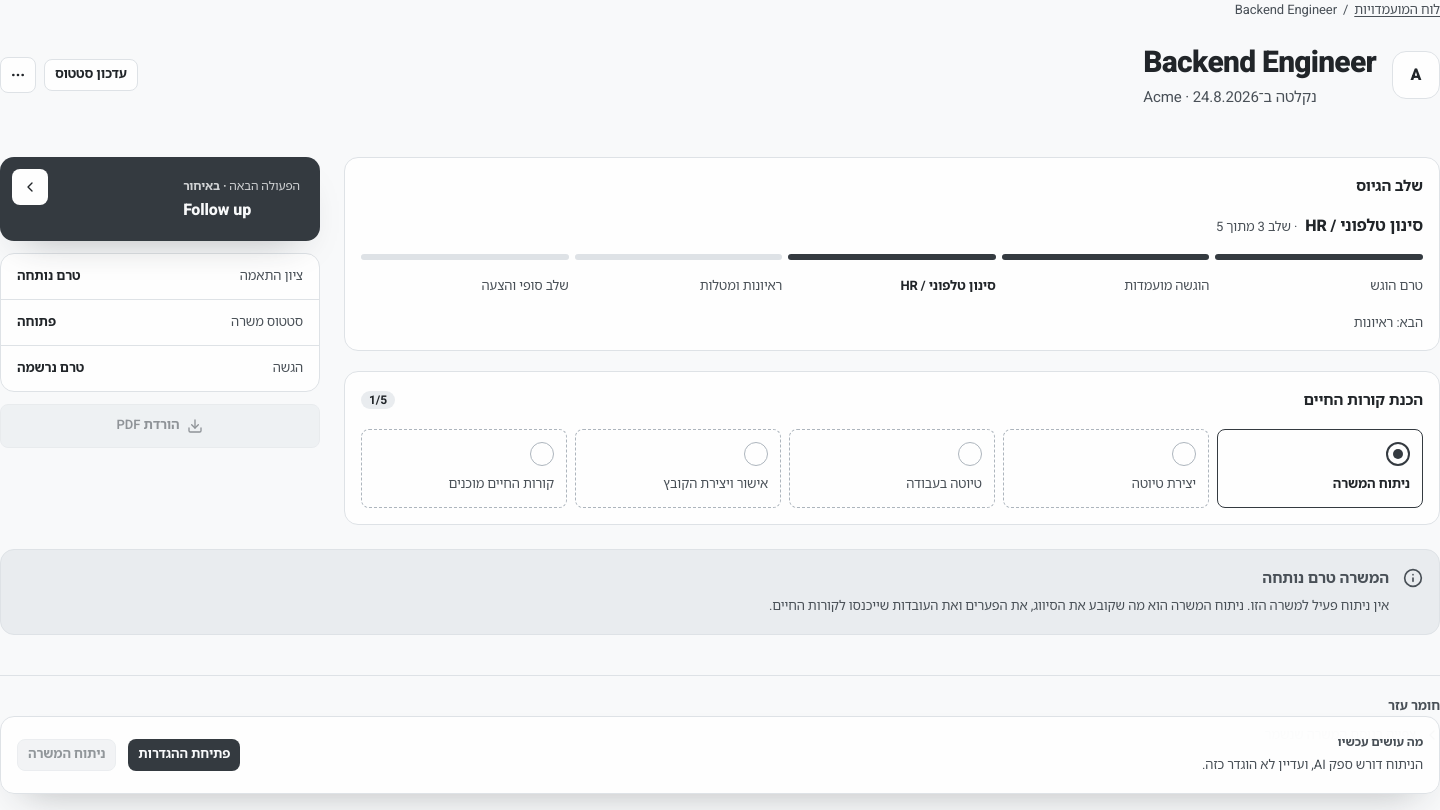
Scenario: ApplicationPage › closes the application from the masthead's record menu and offers to undo it
Click the button named "פעולות נוספות עבור Acme": (18, 75) [0,57,36,93]
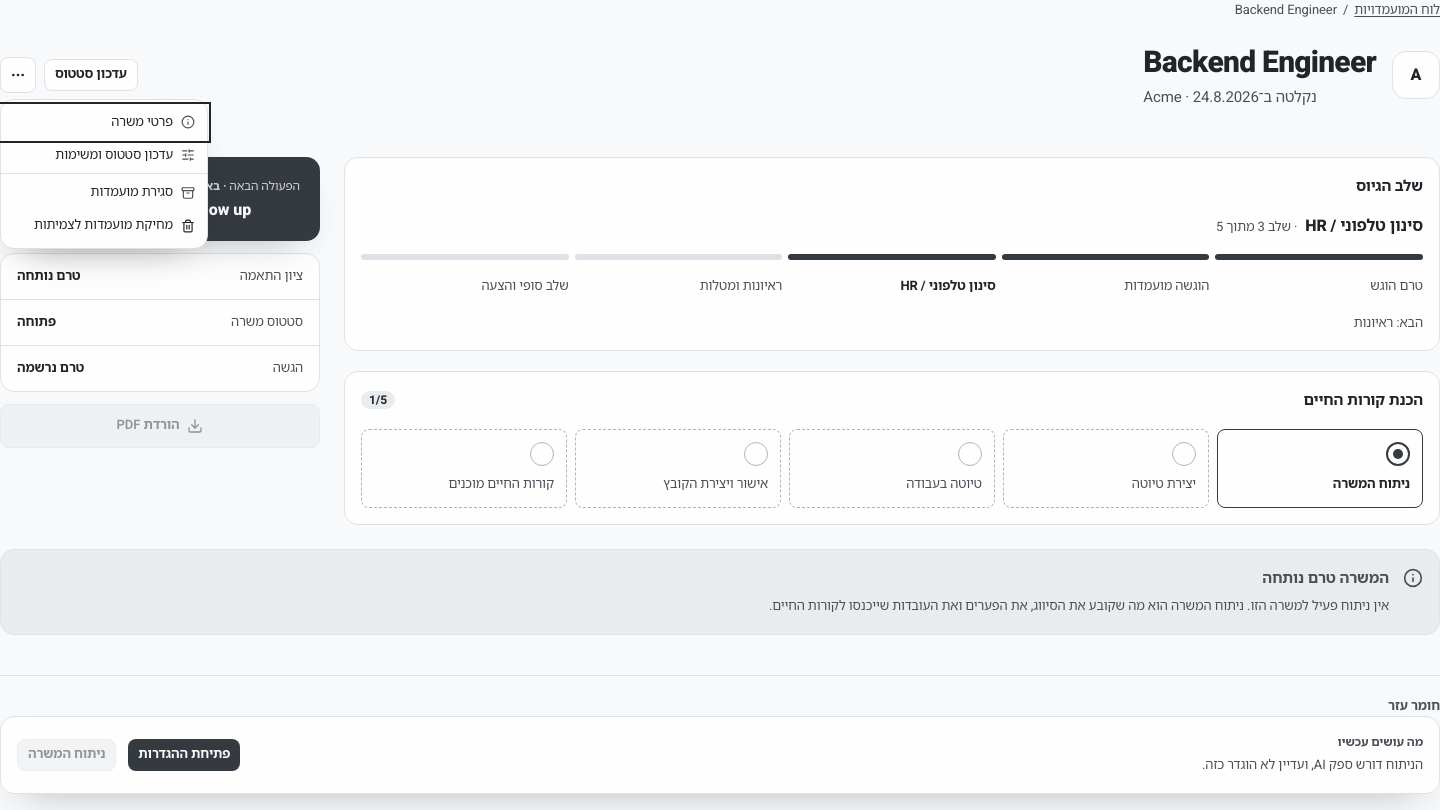
Click the menu item with aria-label "סגירת המועמדות Acme": (104, 193) [1,176,207,209]
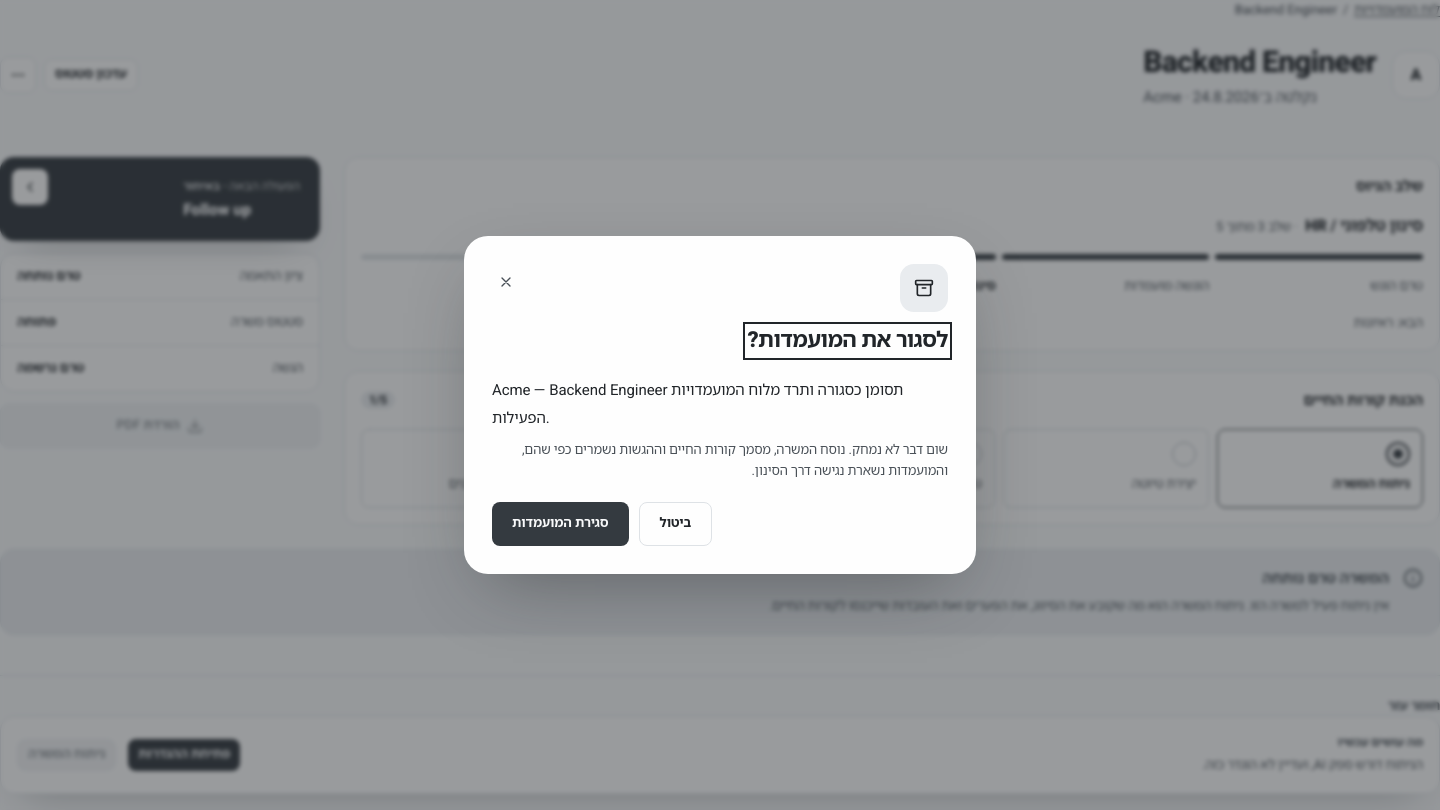
Click the button "סגירת המועמדות": (560, 524) [492,502,628,546]
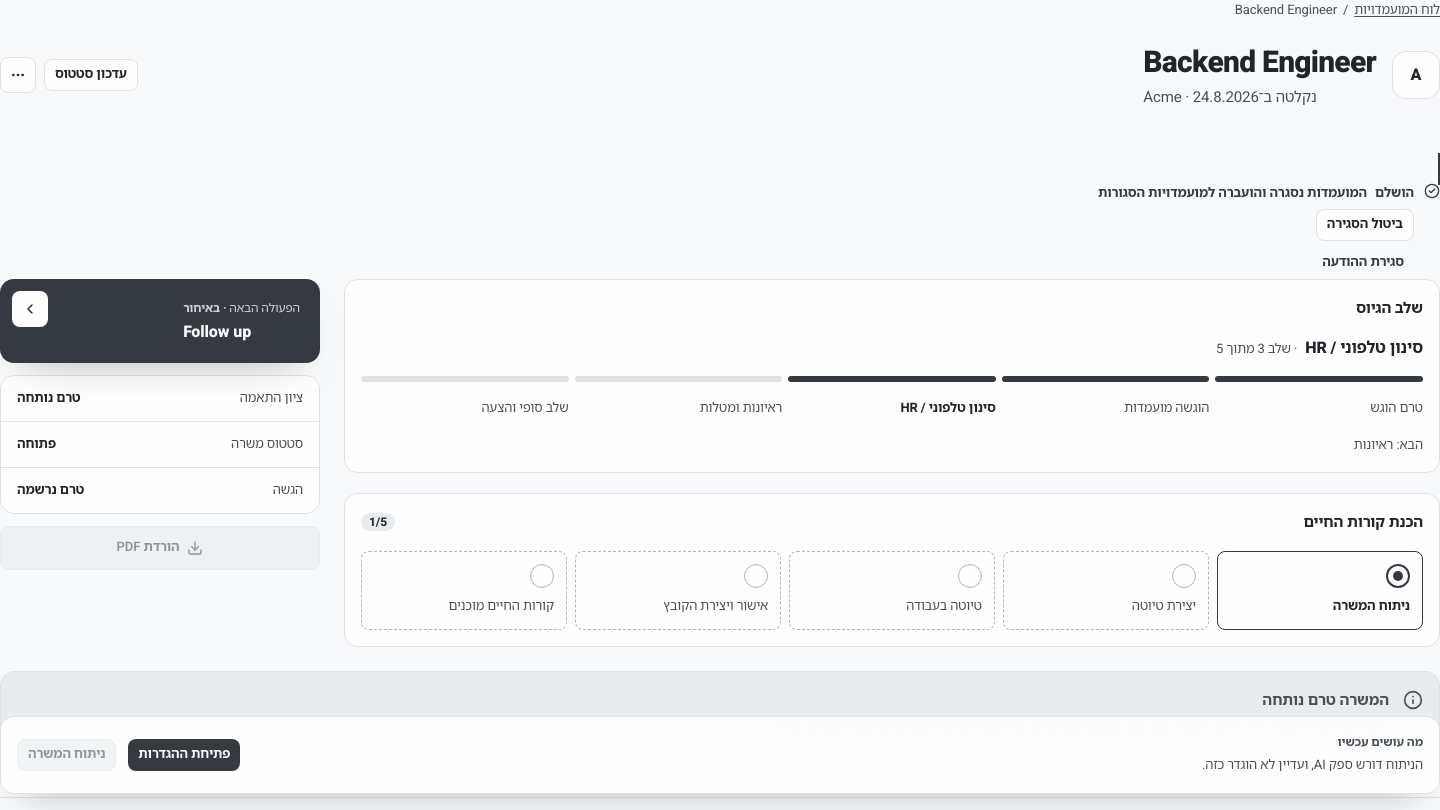
Now the button "ביטול הסגירה" is shown, box [1316,209,1414,241]
